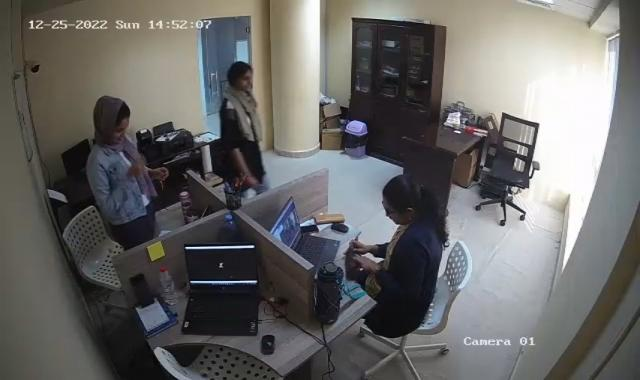no_hairnet: (382, 175, 419, 224), (95, 94, 129, 142), (226, 60, 253, 93)
